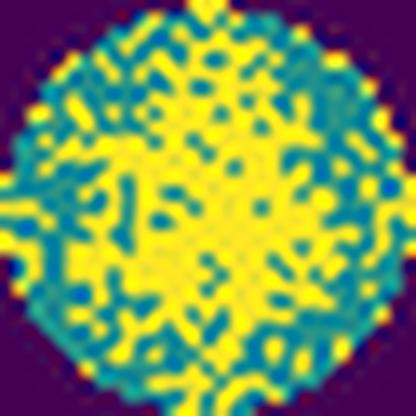Random: (34, 0, 359, 416)
